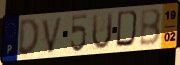5: (69, 12, 89, 54)
B: (139, 8, 163, 48)
D: (115, 9, 142, 49), (17, 17, 41, 58)
U: (90, 11, 114, 52)
V: (41, 15, 65, 55)
